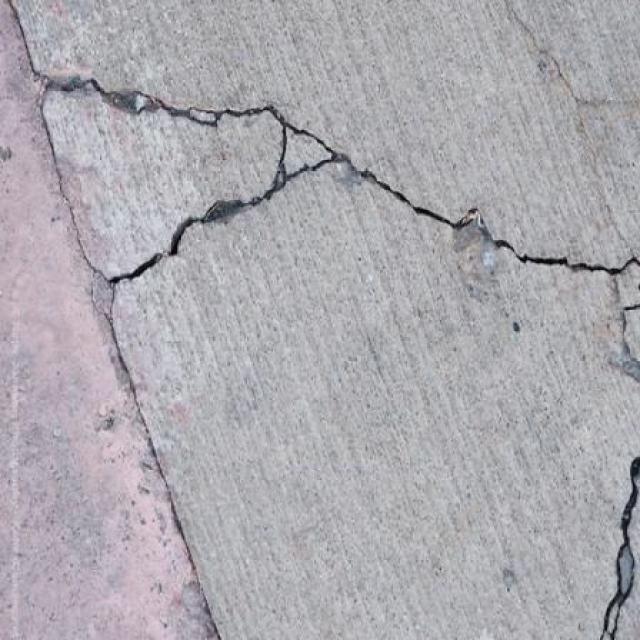Crack: (41, 79, 640, 291), (143, 416, 222, 639), (514, 15, 594, 149), (600, 458, 640, 639), (8, 0, 39, 76), (621, 305, 640, 363)
